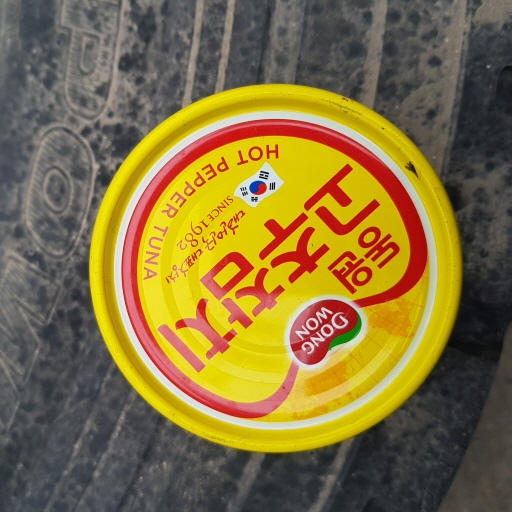Metal_1: (82, 82, 463, 454)
